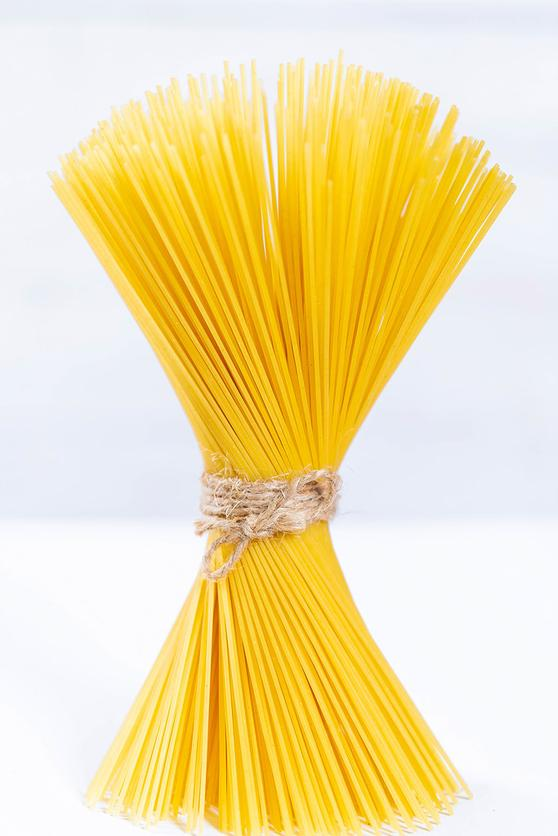spaghetti: (35, 76, 505, 822)
